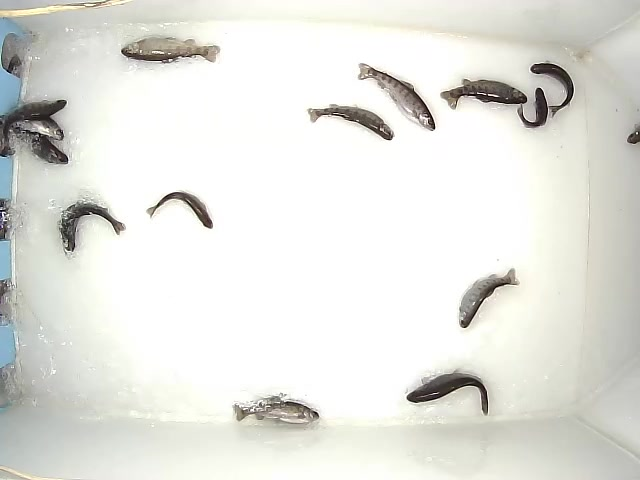fish: (356, 61, 436, 132), (405, 366, 490, 418), (457, 265, 521, 329), (1, 98, 69, 157), (58, 201, 127, 253), (306, 104, 396, 141), (1, 117, 70, 165), (119, 34, 222, 64), (144, 189, 215, 231), (439, 78, 528, 111), (530, 59, 575, 118), (230, 397, 320, 426), (1, 115, 65, 140), (517, 86, 548, 129)
